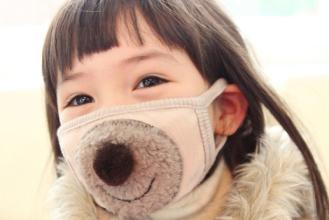face_mask: (50, 31, 204, 206)
